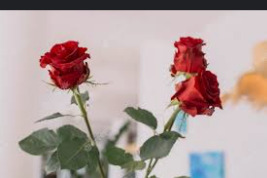RedRose: (37, 36, 98, 95), (163, 31, 218, 77), (171, 72, 227, 116)
